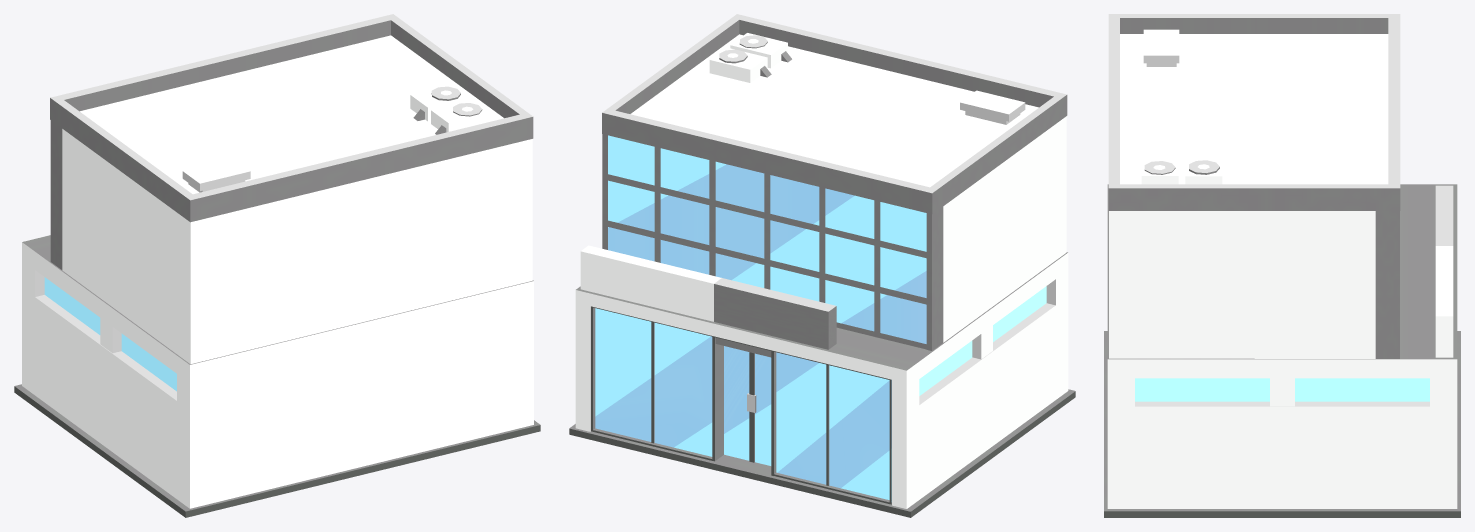
File: supermarket.008.glb
3 renders of one model, left to right at view 1: azimuth 30°, elevation 25°; view 2: azimuth 150°, elevation 25°; view 3: azimuth 270°, elevation 25°, orthographic. The views are drawn at different scales.
Visible parts, largest first — view 1: supermarket.008(Clone); view 2: supermarket.008(Clone); view 3: supermarket.008(Clone).
Part boxes in pixels (x1,y1,x2,y2): supermarket.008(Clone): (14, 14, 540, 517); supermarket.008(Clone): (569, 14, 1075, 517); supermarket.008(Clone): (1104, 14, 1460, 517).
Size of the model in its own units: 6.82 by 5.78 by 5.71.
1 material, 1 textured.
